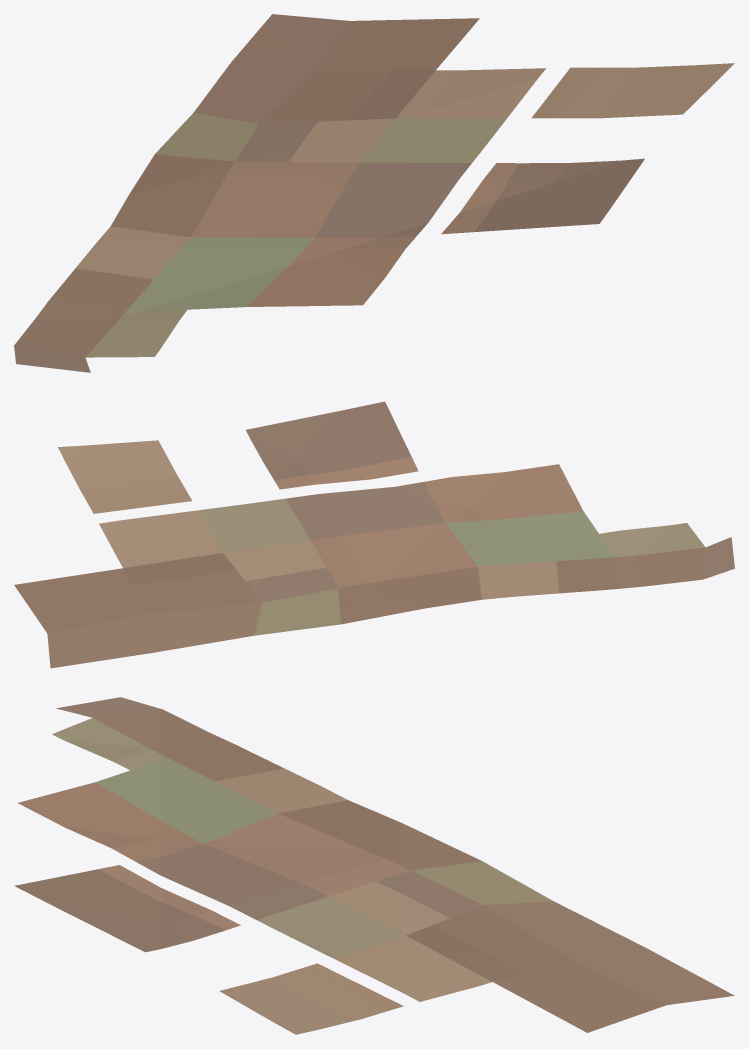
File: farm_-8_4_soil.glb
3 renders of one model, top to bottom at view 1: azimuth 30°, elevation 25°; view 2: azimuth 150°, elevation 25°; view 3: azimuth 270°, elevation 25°, orthographic. The views are drawn at different scales.
Visible parts, largest first — view 1: geometry_0; view 2: geometry_0; view 3: geometry_0.
Part boxes in pixels (x1,y1,x2,y2): geometry_0: (14,14,734,372); geometry_0: (14,401,734,668); geometry_0: (14,697,734,1034).
Bounding box in the file's own units: 290 × 30.19 × 239.
